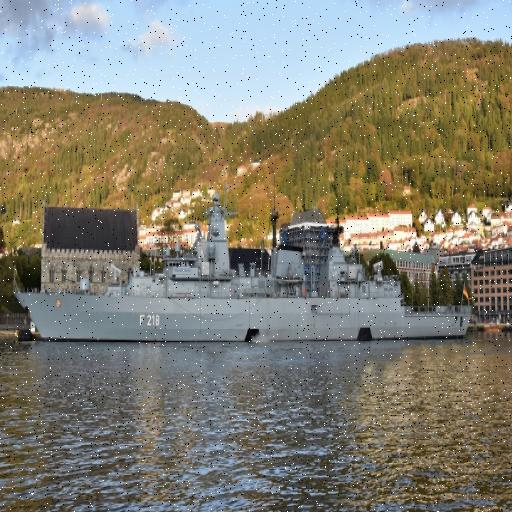Fragata: (12, 197, 476, 349)
